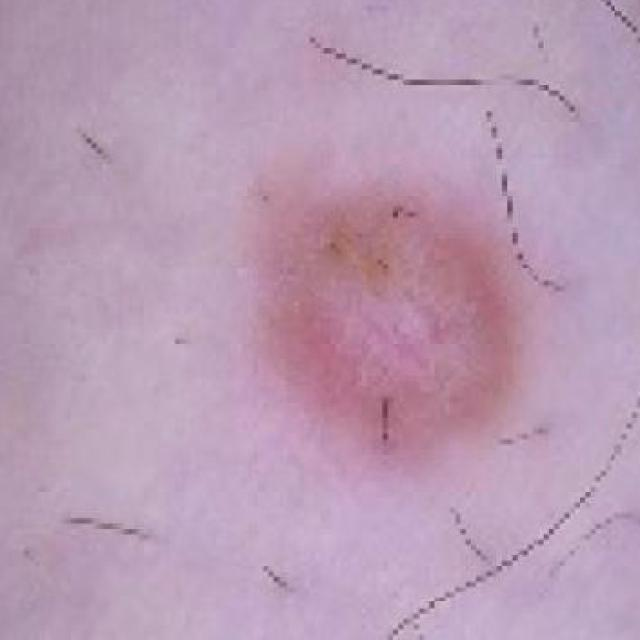DF: (180, 152, 528, 509)
